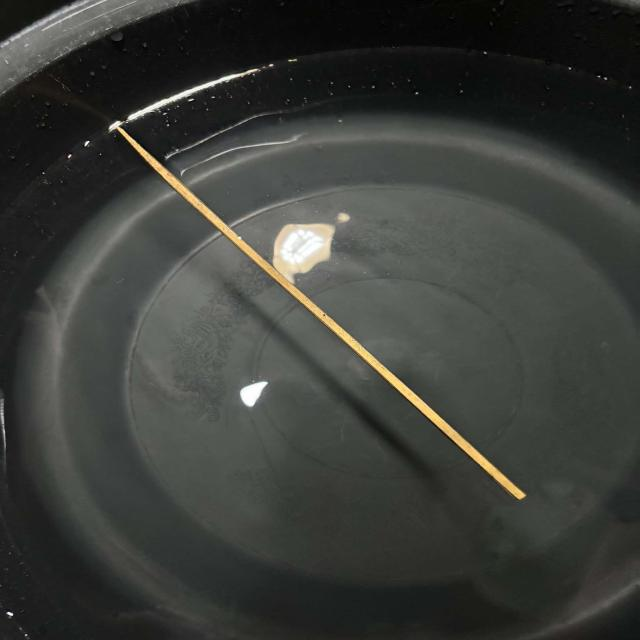Wood Stick: (109, 124, 525, 499)
